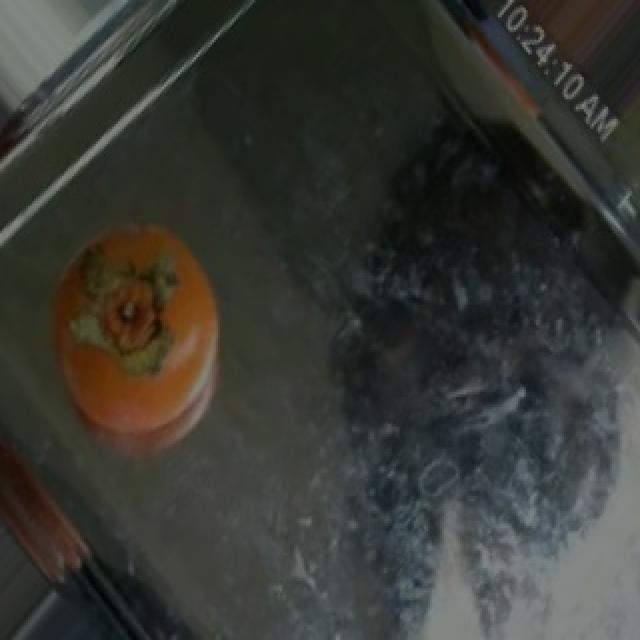Fruit: (28, 198, 256, 476)
